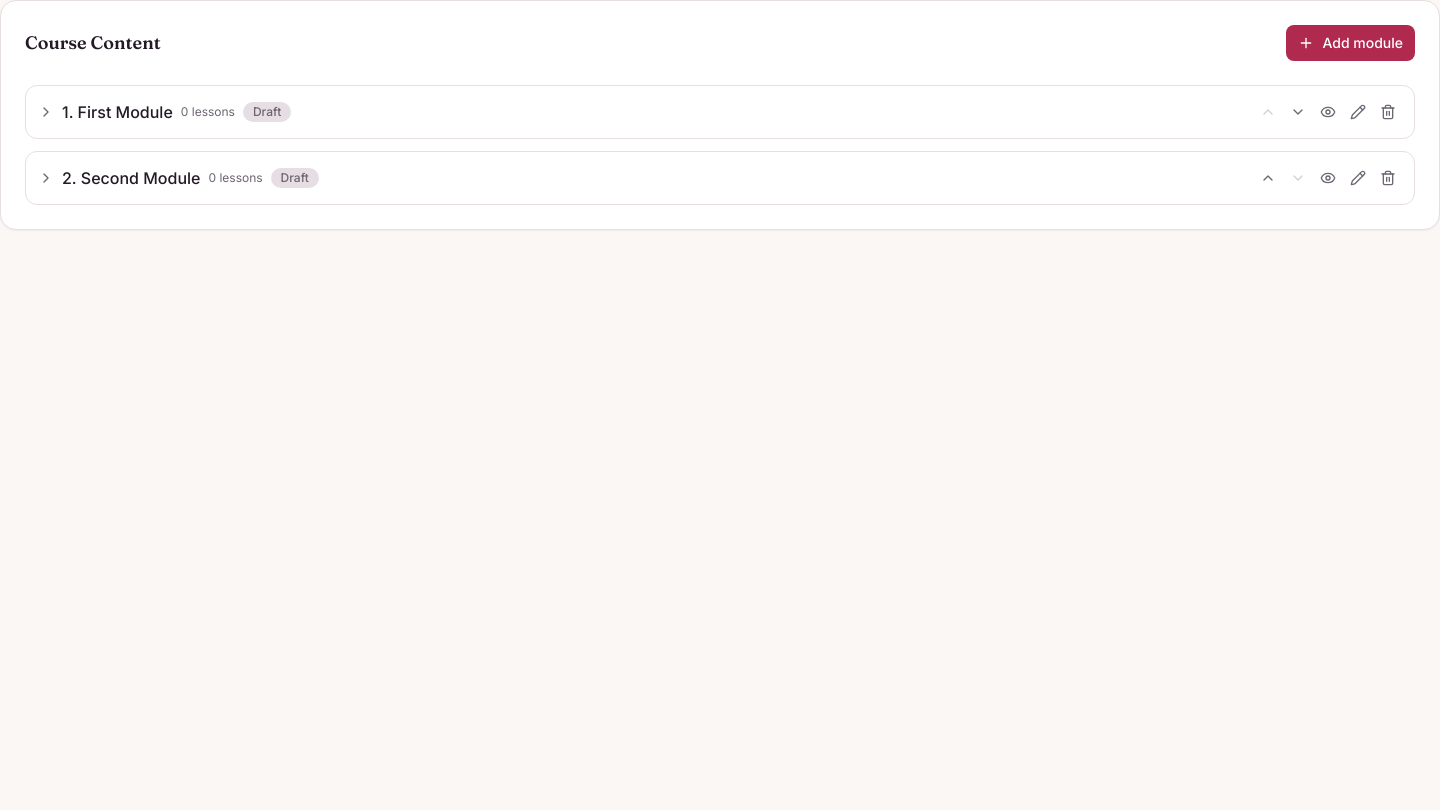
Test case: CourseContentManager › reorders modules with the move-down control
Step 1. Click the button named "Move module First Module down" → {"x": 1298, "y": 112}, box [1284,98,1312,126]
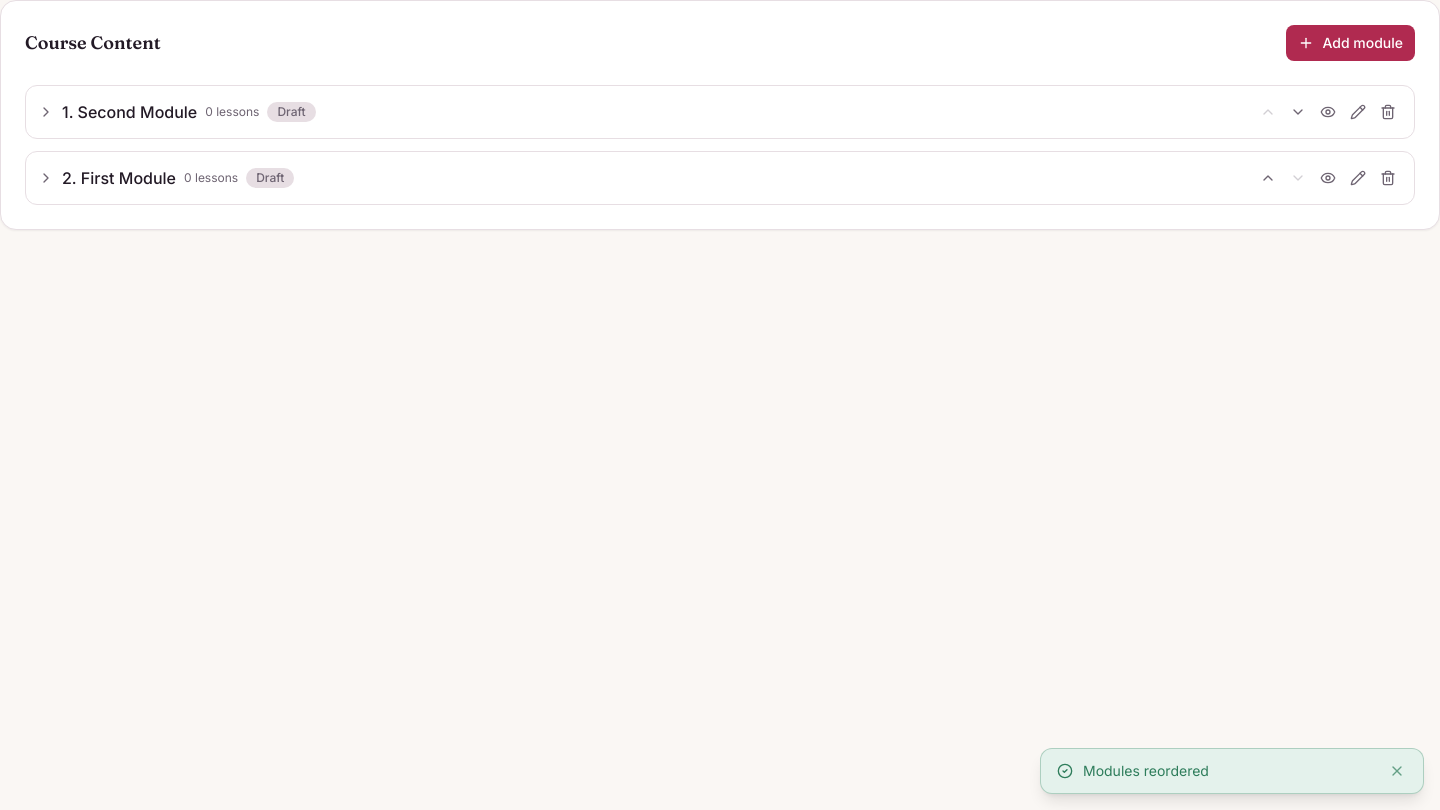
Now the text "Modules reordered" is shown, box [1083,762,1209,779]
